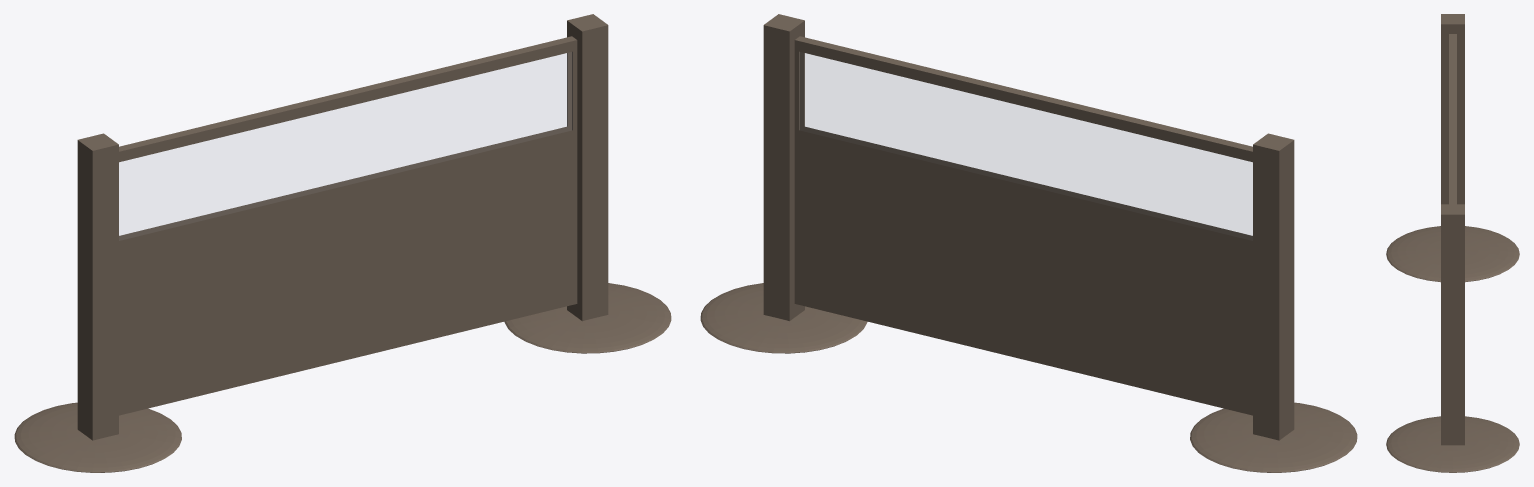
Rendered from tussenschotbeige (1).fbx.
3 views of the same model, side by side, from view 1: azimuth 30°, elevation 25°; view 2: azimuth 150°, elevation 25°; view 3: azimuth 270°, elevation 25° (orthographic). The views are drawn at different scales.
Visible parts, largest first — view 1: Cube, Cube.002, Sphere; view 2: Cube, Cube.002, Sphere; view 3: Sphere, Cube.002, Cube.
Boxes of the visible parts, x1=… form: Cube: x1=119, y1=36, x2=577, y2=415; Cube.002: x1=77, y1=14, x2=608, y2=440; Sphere: x1=14, y1=283, x2=671, y2=472; Cube: x1=794, y1=36, x2=1252, y2=415; Cube.002: x1=763, y1=14, x2=1294, y2=440; Sphere: x1=700, y1=283, x2=1357, y2=472; Sphere: x1=1386, y1=226, x2=1519, y2=472; Cube.002: x1=1441, y1=14, x2=1464, y2=445; Cube: x1=1449, y1=34, x2=1456, y2=204.
Bounding box in the file's own units: 873 × 395 × 200.
